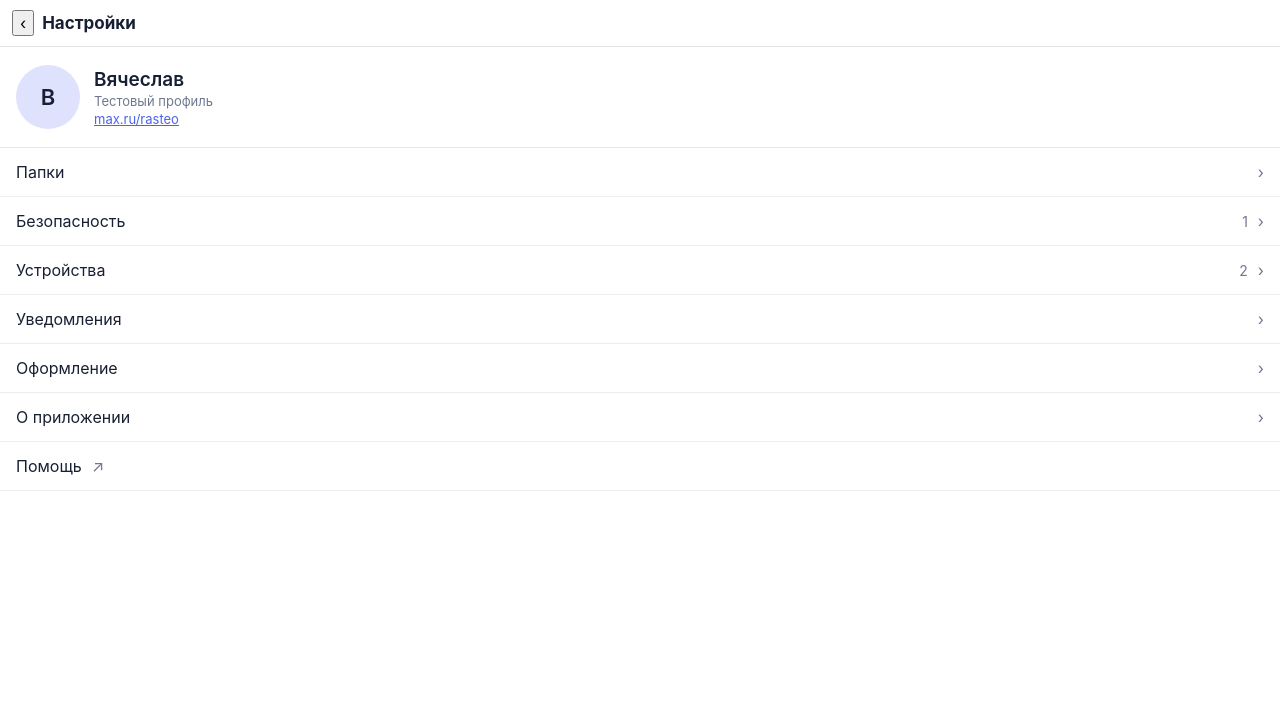
Test: settings screen › shows every signed-in device and marks the current one
Click the button "Устройства 2 ›" at (61, 270), box [0,246,1279,295]
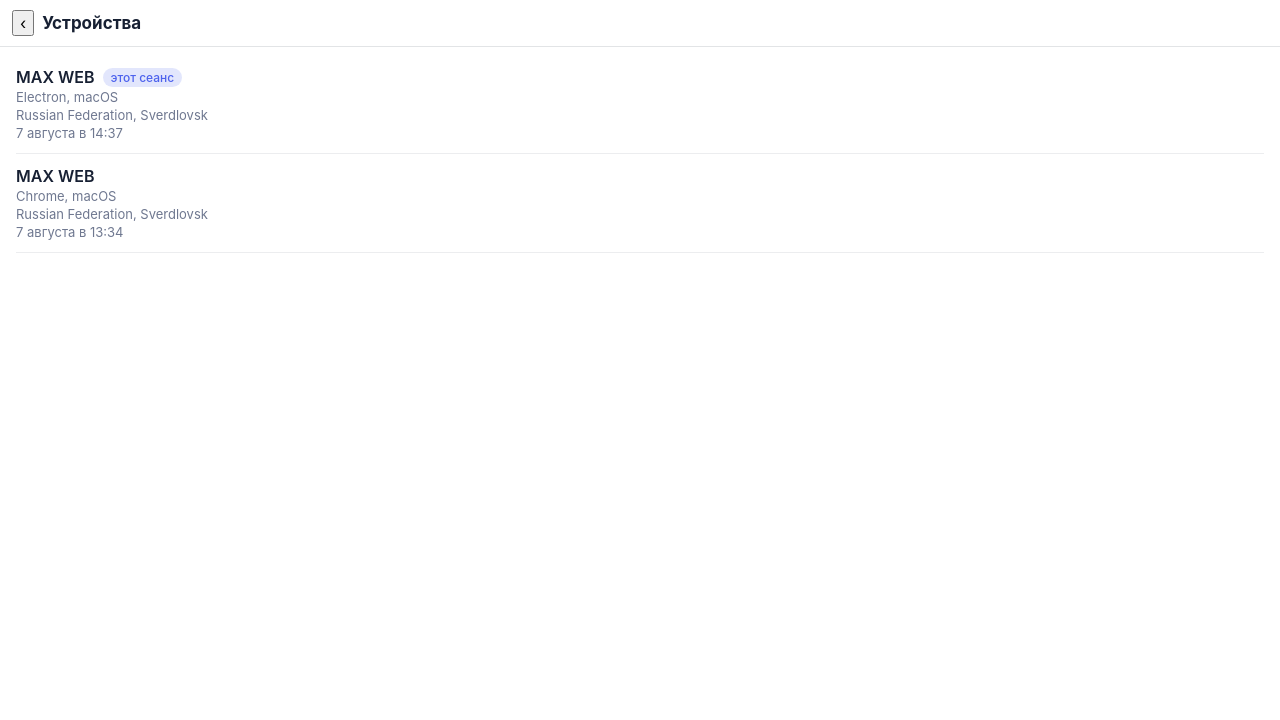
Now the element with test id "settings-pane" shows "Electron, macOS", box [16,89,118,105]
Now the element with test id "settings-pane" shows "Chrome, macOS", box [16,188,116,204]
Now the text "этот сеанс" is shown, box [102,68,182,86]
